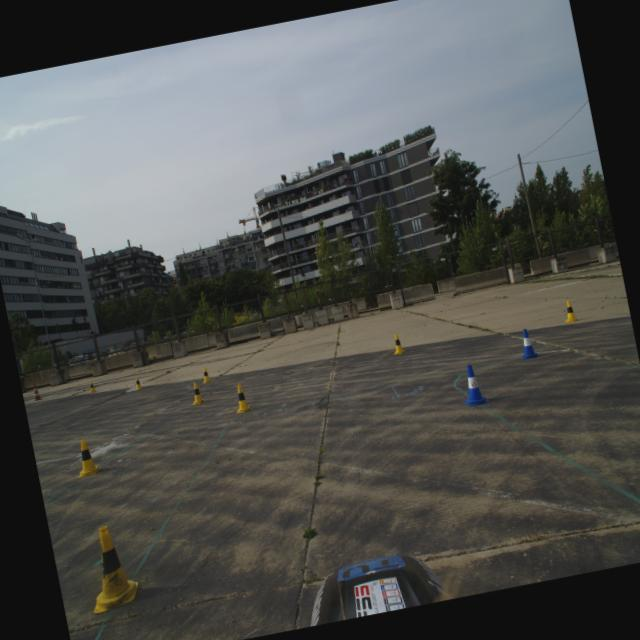blue_cone: (456, 362, 489, 408), (516, 327, 540, 361)
large_orange_cone: (30, 384, 42, 402)
yellow_cone: (78, 522, 143, 614), (71, 437, 103, 478), (230, 383, 253, 414), (561, 298, 580, 324), (188, 382, 206, 406), (389, 332, 406, 355), (200, 366, 212, 384), (132, 376, 144, 391), (88, 380, 98, 393)
